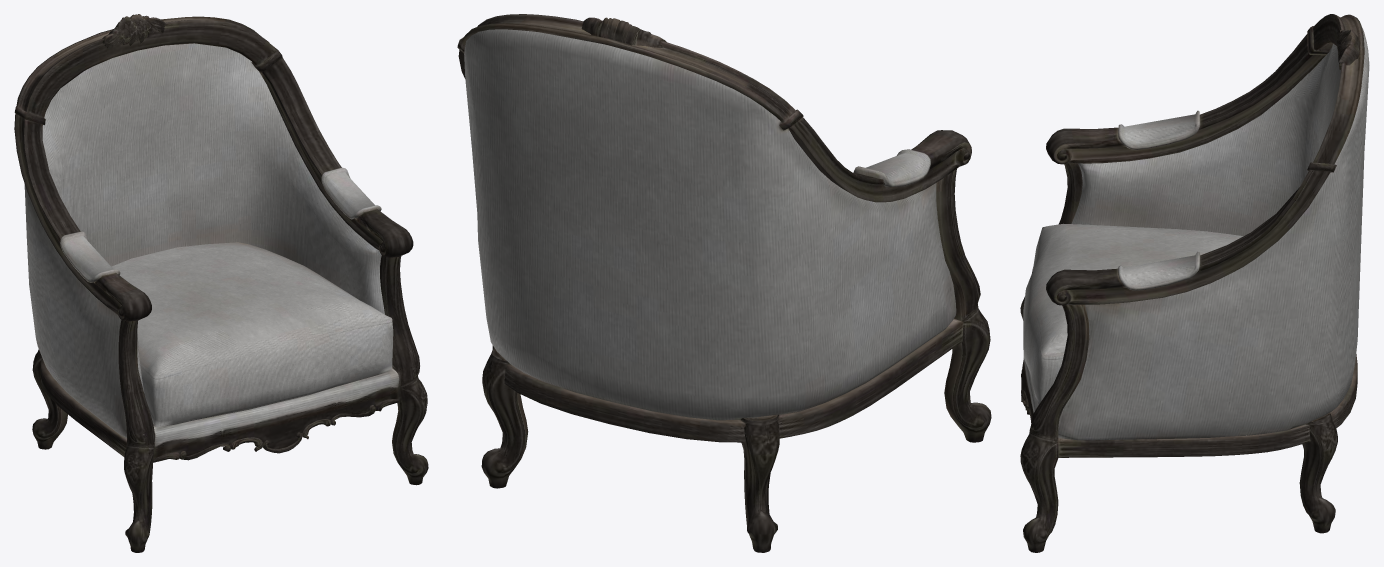
The model's file is armchair.glb.
The picture shows the model from 3 angles, left to right: view 1: azimuth 30°, elevation 25°; view 2: azimuth 150°, elevation 25°; view 3: azimuth 270°, elevation 25°; orthographic projection. The views are drawn at different scales.
Parts seen in each view (by area): view 1: ArmChair_01; view 2: ArmChair_01; view 3: ArmChair_01.
Boxes of the visible parts, left/top/right/bottom form: ArmChair_01: left=14, top=14, right=428, bottom=552; ArmChair_01: left=457, top=14, right=991, bottom=552; ArmChair_01: left=1020, top=14, right=1369, bottom=552.
Bounding box in the file's own units: 0.8484 × 1.07 × 0.7658.
1 material, 1 textured.
